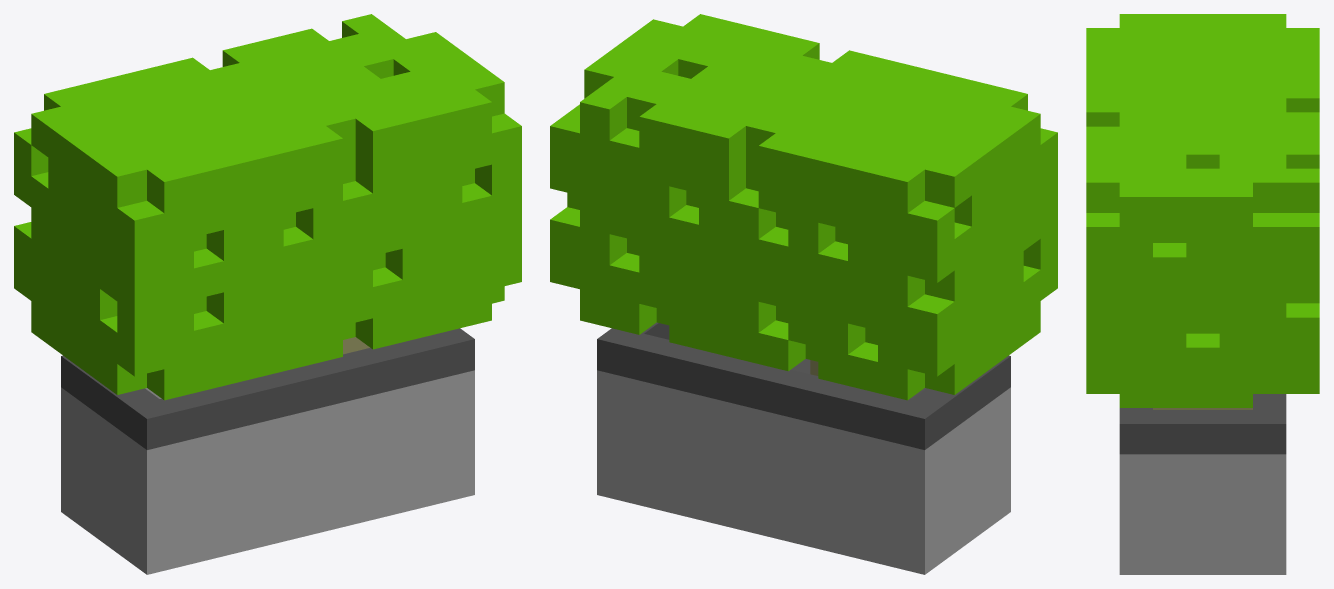
Rendered from obj_planter2.obj.
The picture shows the model from 3 angles, left to right: view 1: azimuth 30°, elevation 25°; view 2: azimuth 150°, elevation 25°; view 3: azimuth 270°, elevation 25°; orthographic projection. The views are drawn at different scales.
Size of the model in its own units: 1.3 by 1.3 by 0.7.
Materials: 1 (1 with a texture image).
